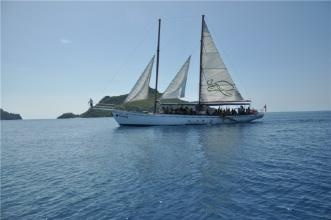fanchuan: (107, 15, 271, 127)
